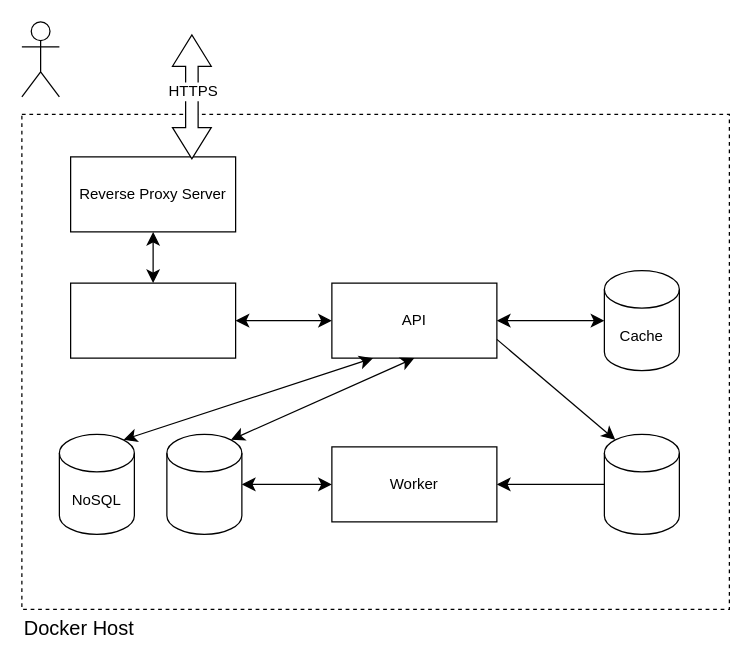
Image size: 751x669. Some labels were removed from this diagram. The shapes that lost their labels are listed below. From the top down, each one's centre as x and y in pixels, then its label:
At point (152, 320): "Frontend".
At point (204, 483): "SQL".
At point (641, 483): "MQ".
